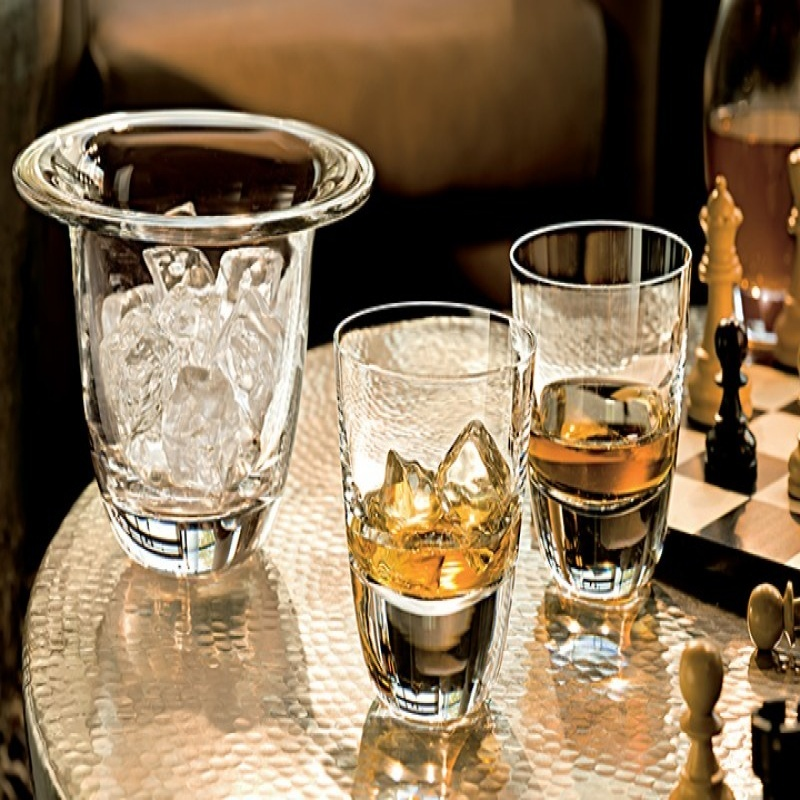whiskey: (330, 303, 516, 731), (515, 221, 681, 602)
